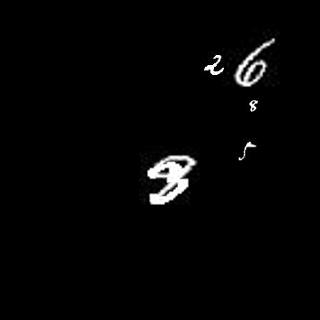eight: (244, 97, 260, 115)
five: (235, 141, 258, 161)
six: (233, 39, 281, 88)
two: (202, 52, 227, 77)
